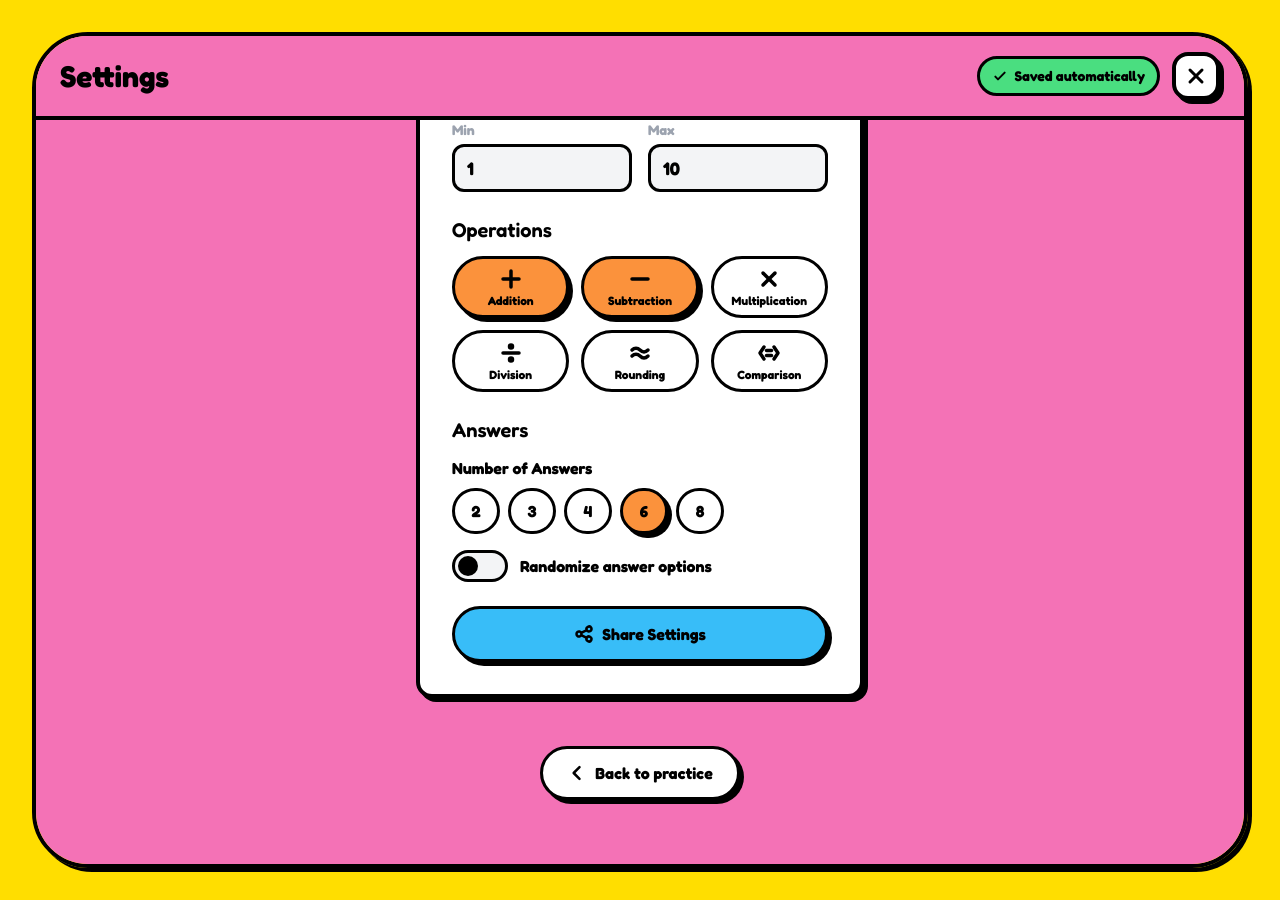
Test: Settings Page › falls back to copying when native share fails
This screenshot has width=1280, height=900.
(page scrolled)
Click the button "Share Settings" at (640, 634), box [452,606,828,662]
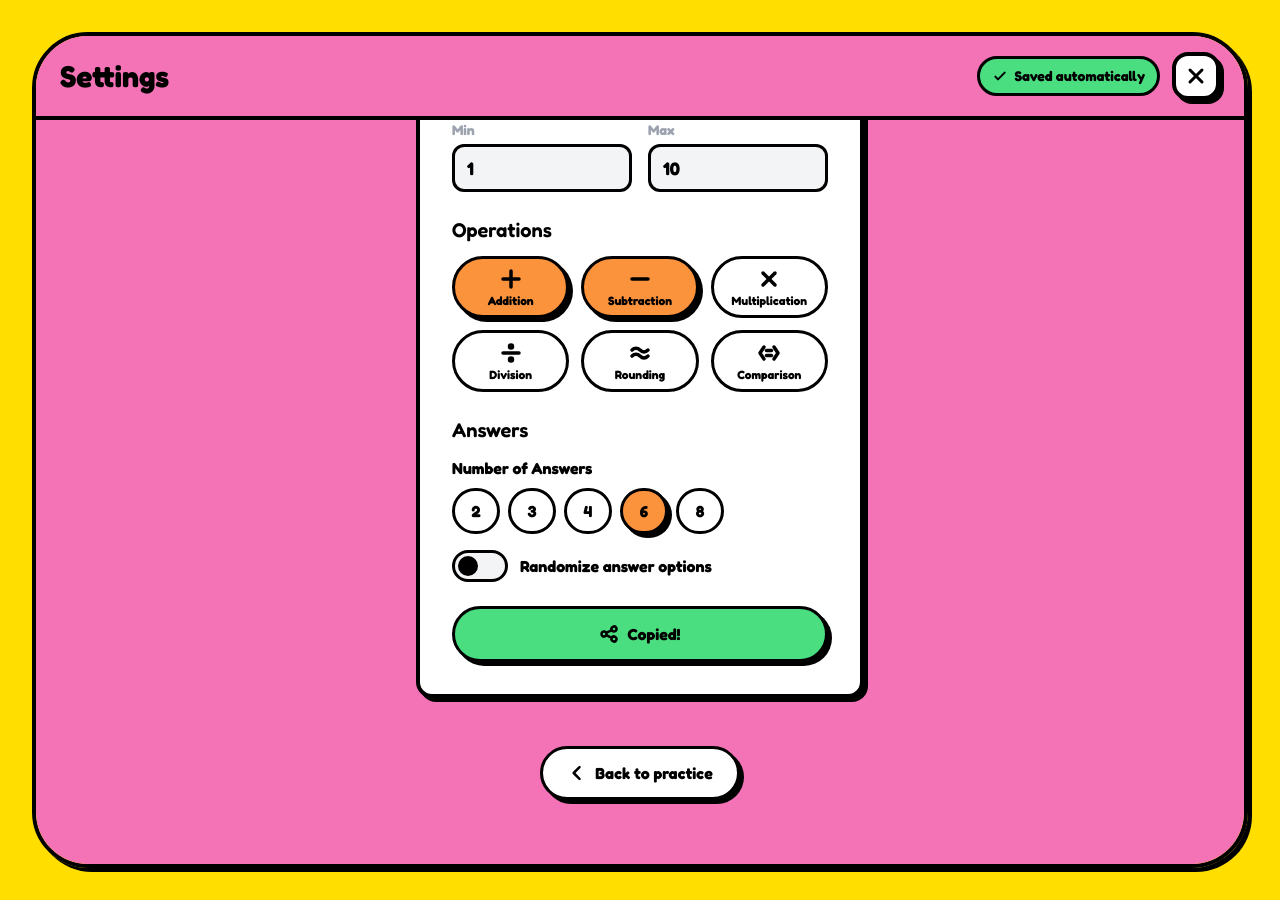
Check: the button "Share Settings" reads "Copied!", box [452,606,828,662]
